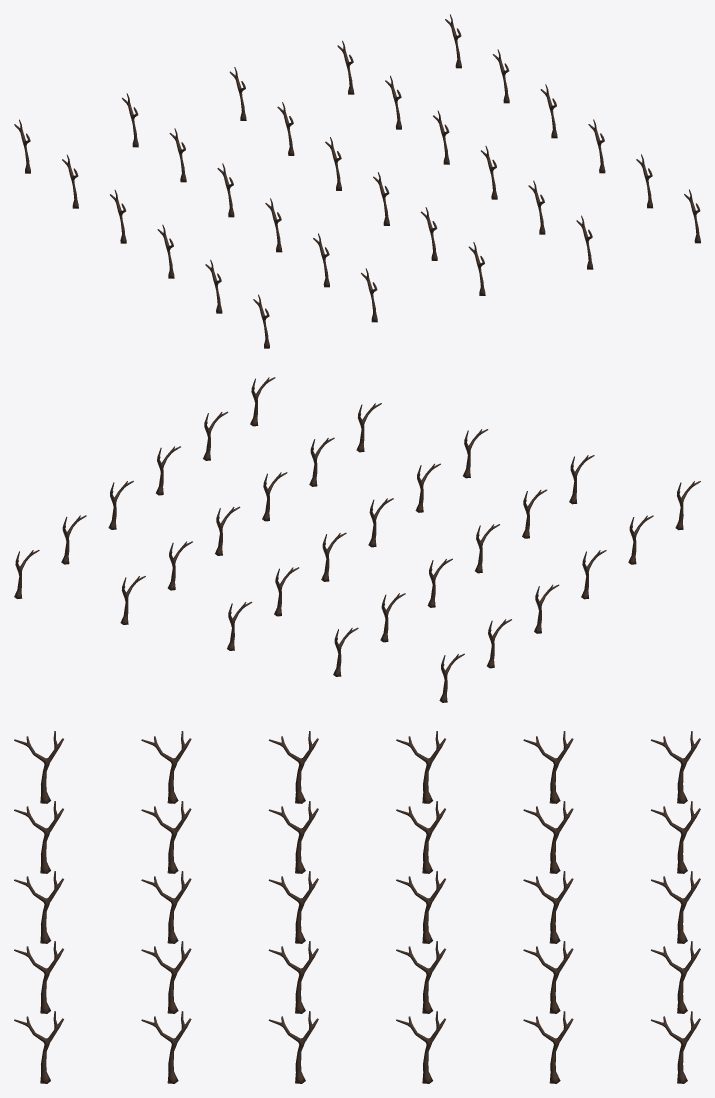
File: Y2WinterPruned.fbx
3 renders of one model, top to bottom at view 1: azimuth 30°, elevation 25°; view 2: azimuth 150°, elevation 25°; view 3: azimuth 270°, elevation 25°, orthographic. The views are drawn at different scales.
Parts seen in each view (by area): view 1: Y2WinterPruned; view 2: Y2WinterPruned; view 3: Y2WinterPruned.
Part boxes in pixels (x1,y1,x2,y2): Y2WinterPruned: (14,14,700,348); Y2WinterPruned: (14,377,700,702); Y2WinterPruned: (14,731,700,1083).
Bounding box in the file's own units: 300 × 33.03 × 301.
